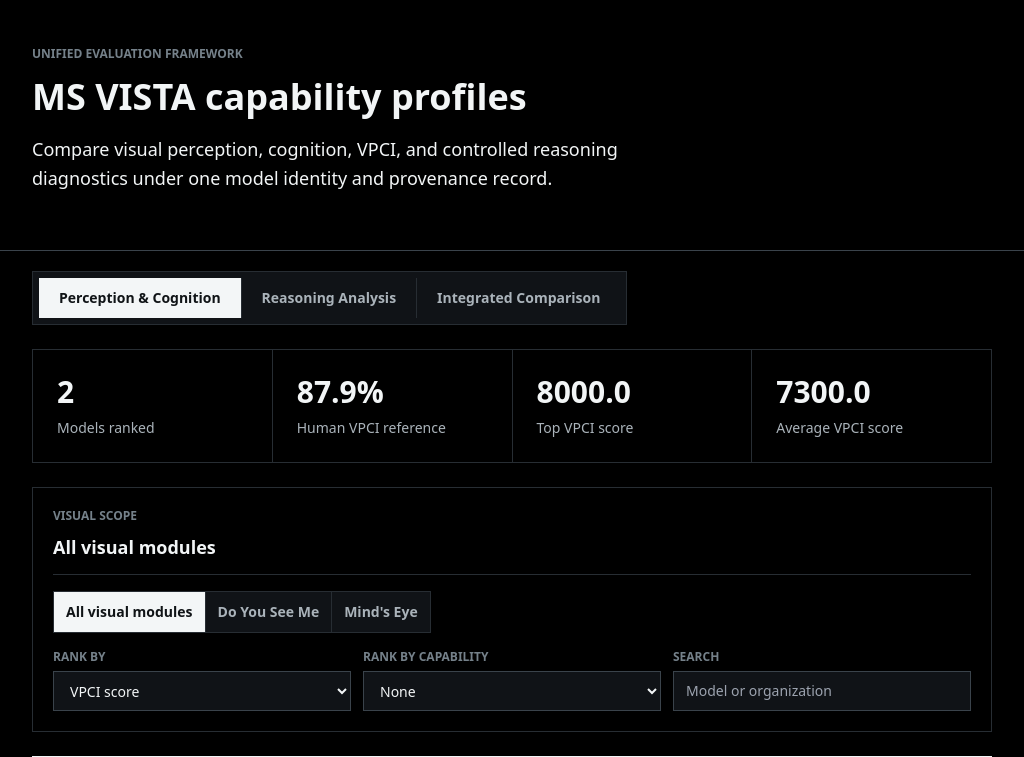
Test: leaderboard filter contracts › hides unavailable spatial comparison scope and columns
Click the tab "Integrated Comparison" at (519, 298), box 417,278 -> 620,318
(page scrolled)
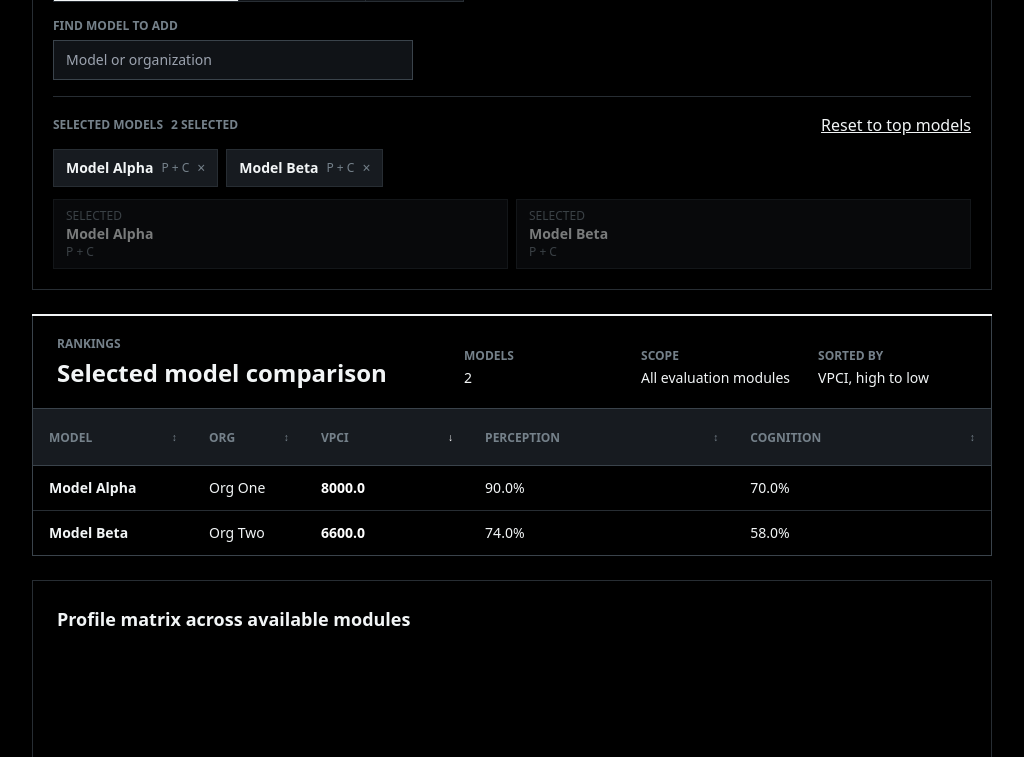
Expected: the heading "Selected model comparison" is shown, 57,358 -> 387,388
